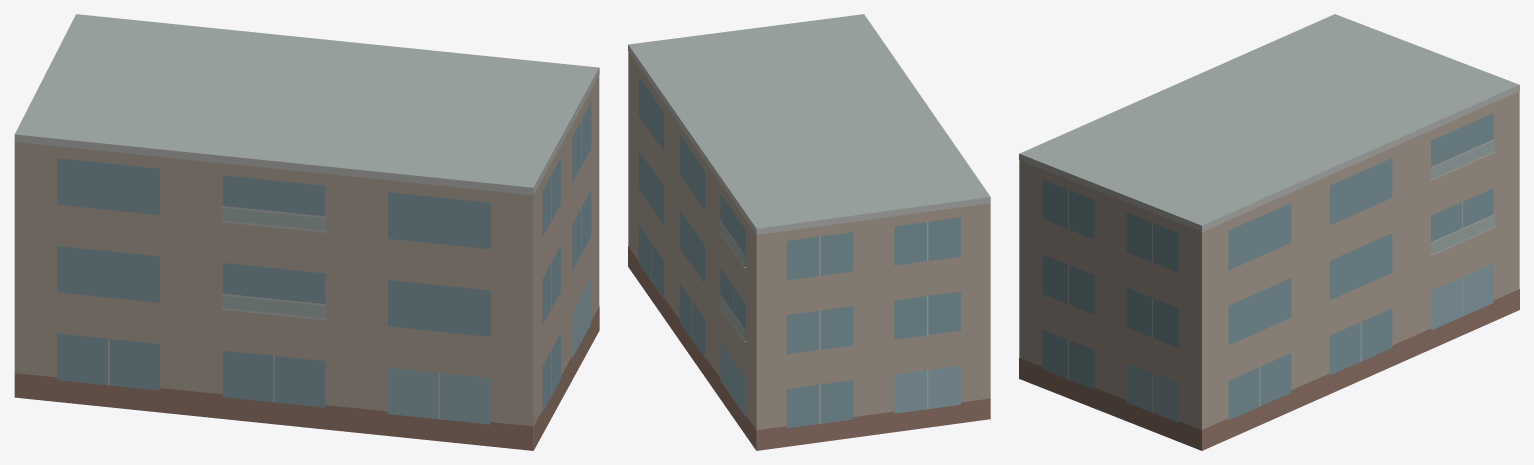
The model's file is survey-upis-32723909.glb.
3 renders of one model, left to right at view 1: azimuth 30°, elevation 25°; view 2: azimuth 150°, elevation 25°; view 3: azimuth 270°, elevation 25°, orthographic. The views are drawn at different scales.
Parts seen in each view (by area): view 1: survey-upis-32723909.tmp; view 2: survey-upis-32723909.tmp; view 3: survey-upis-32723909.tmp.
Part boxes in pixels (<box>): survey-upis-32723909.tmp: <box>14,14,599,450</box>; survey-upis-32723909.tmp: <box>628,14,990,450</box>; survey-upis-32723909.tmp: <box>1019,14,1519,450</box>.
Size of the model in its own units: 17.35 by 8.6 by 17.33.
